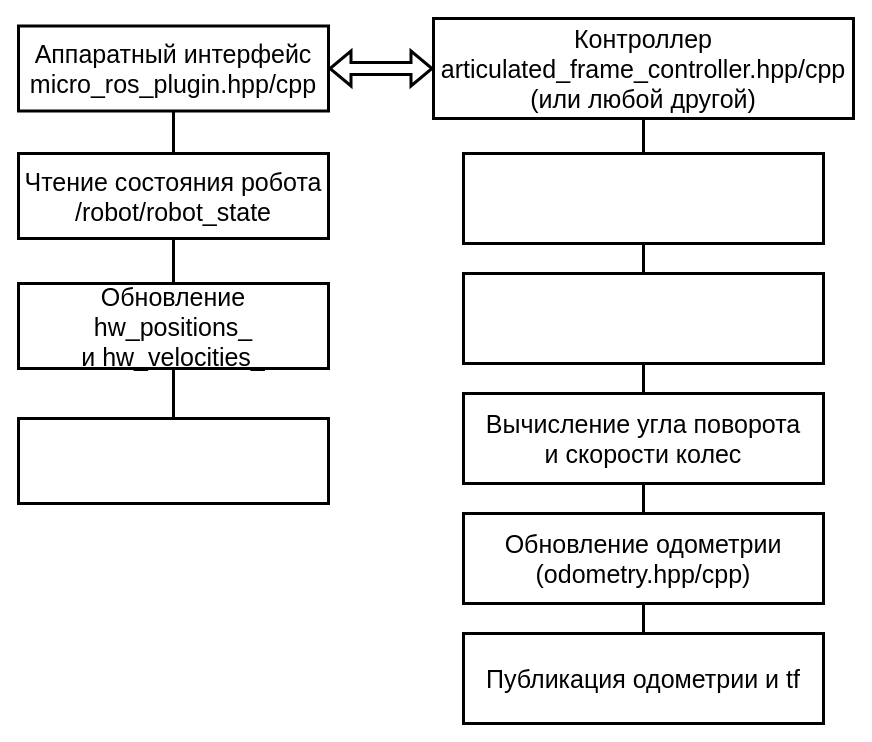
Image size: 872x742. Some labels were removed from this diagram. The centre of each missing label's shape, as x and y in pixels:
Запись команд в /robot/wheel_speeds: pixel 173 460
Получение команд cmd_vel ~/cmd_vel или ~/cmd_vel_unstamped: pixel 643 198
Применение ограничителей скорости/ускорения/рывка: pixel 643 318
